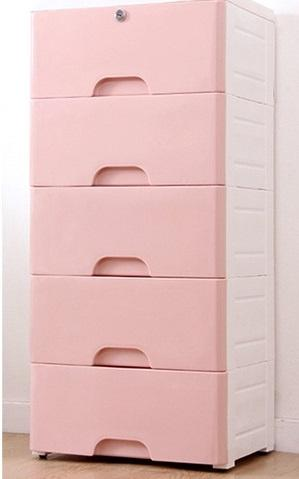cabinet_door: (32, 189, 225, 278), (30, 2, 219, 91), (32, 96, 224, 183), (32, 281, 226, 367), (33, 375, 224, 459)
handle: (92, 249, 151, 279), (89, 72, 151, 96), (95, 339, 150, 364), (93, 159, 149, 182), (91, 441, 151, 460)
